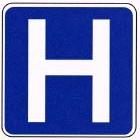hospital: (1, 2, 138, 138)
